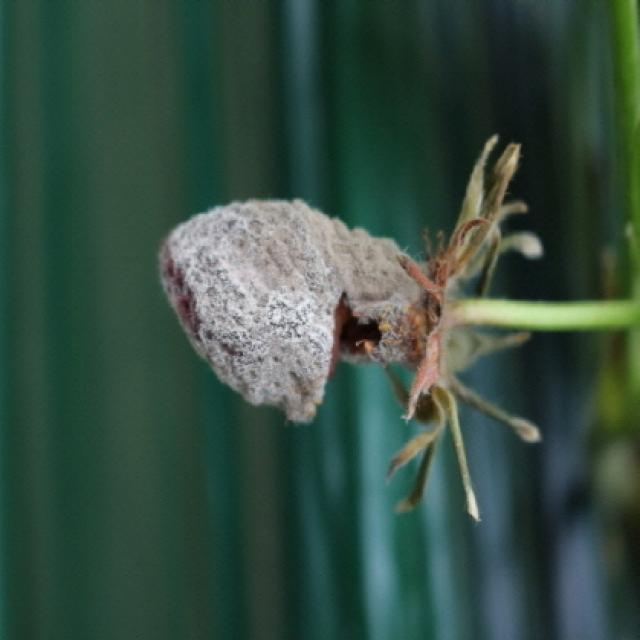Gray Mold: (156, 136, 543, 524)
